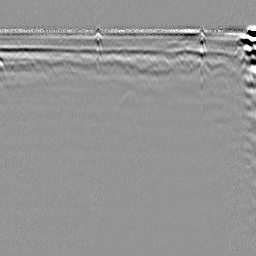cavity: (118, 87, 140, 104)
